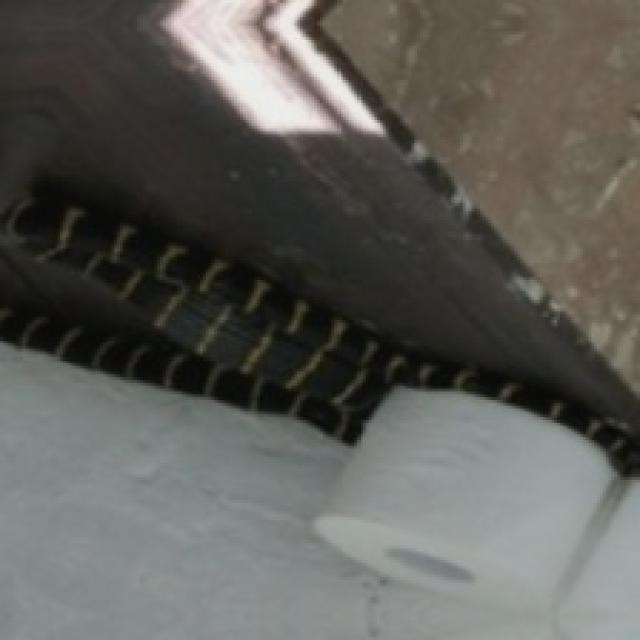mangrove cat snake: (0, 189, 637, 471)
